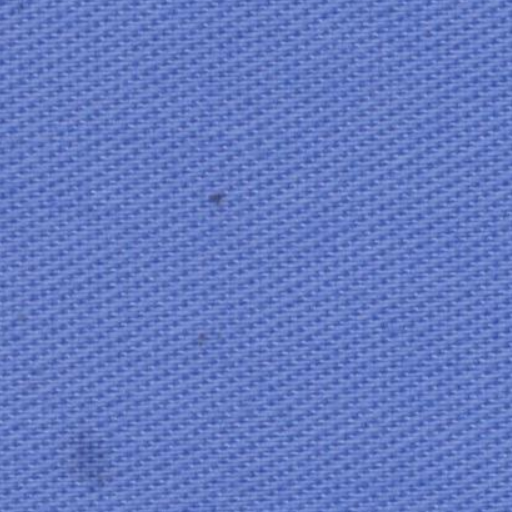WuZi: (60, 415, 128, 494), (181, 166, 242, 230), (180, 311, 224, 358)
